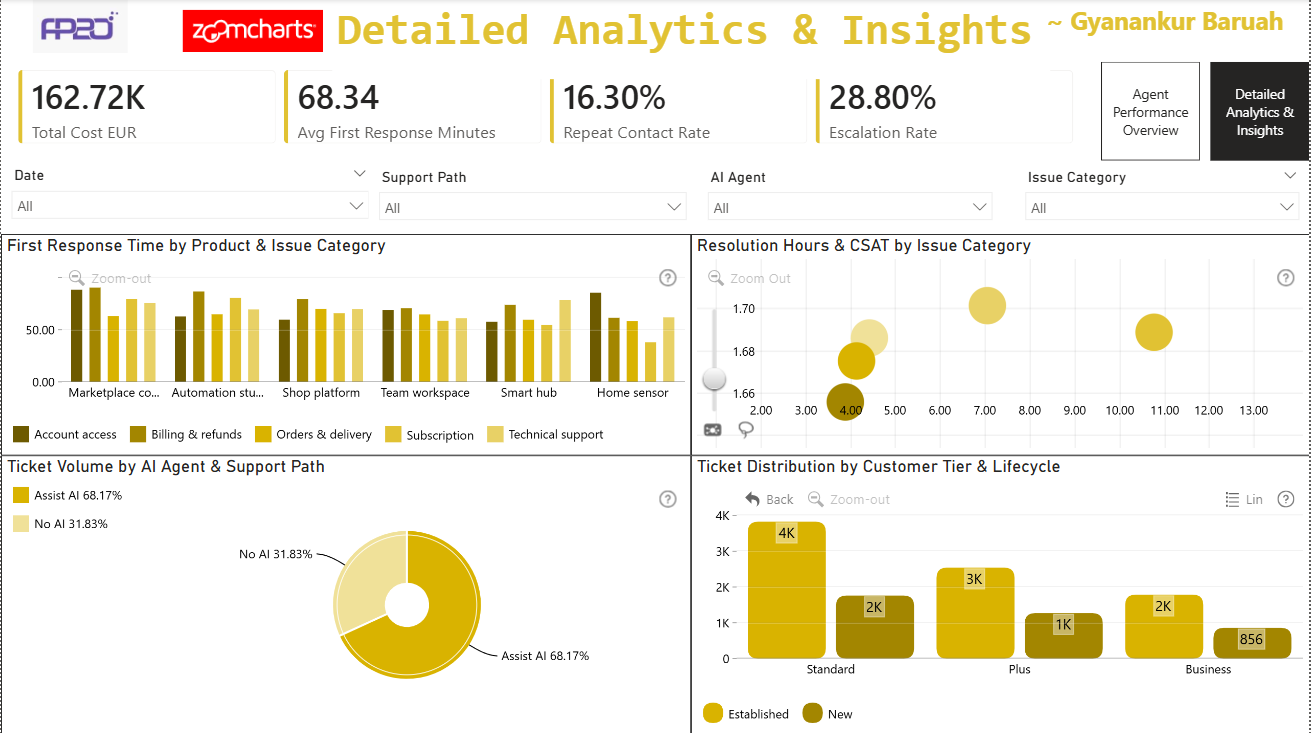

This screenshot's page, from the dashboard's own definition file:
{"tool":"powerbi","page":{"name":"Detailed Analytics & Insights","canvas":[1280,720],"ordinal":1},"visuals":[{"type":"cardVisual","fields":{"Data":["Measures (2).Total Cost EUR","Measures (2).Avg First Response Minutes","Measures (2).Repeat Contact Rate","Measures (2).Escalation Rate"]},"box":[0,52.6,1067.5,106.4],"z":0},{"type":"ZoomChartsFacetChartPaidE77E4ED357DC402ABA005987437CF500","title":"Ticket Distribution by Customer Tier & Lifecycle","fields":{"Category":["DimCustomerProfile.CustomerTier"],"Legend":["DimCustomerProfile.Lifecycle"],"Values1":["Measures (2).Total Tickets"]},"box":[675,446.3,605.3,273.9],"z":1000},{"type":"ZoomChartsPieChartFree33C9F325D337408C98D4E1D4E1EAD703","title":"Ticket Volume by AI Agent & Support Path ","fields":{"Category":["DimSupportRoute.AIAgent","DimSupportRoute.SupportPath"],"Values":["Measures (2).Total Tickets"]},"box":[0,446.3,675,273.9],"z":2000},{"type":"ZoomChartsFacetChartPaidE77E4ED357DC402ABA005987437CF500","title":"First Response Time by Product & Issue Category","fields":{"Category":["DimProduct.ProductName","FactSupportTicketsTable.ResolutionHours"],"Legend":["DimIssueTable.IssueCategory"],"Values1":["Measures (2).Avg First Response Minutes"]},"box":[0,229.9,675,216.4],"z":3000},{"type":"ZoomChartsScatterChartPaidA2C55E4B59078FDD51C4CD1C4D4E6623V9","title":"Resolution Hours & CSAT by Issue Category","fields":{"category":["DimIssueTable.IssueCategory"],"sourceNodes":["Measures (2).Avg Resolution Hours"],"targetNodes":["Measures (2).CSAT Score"]},"box":[675,229.9,605.3,216.4],"z":4000},{"type":"slicer","fields":{"Values":["DimDate.YearMonth.Variation.Date Hierarchy.Year","DimDate.YearMonth.Variation.Date Hierarchy.Quarter","DimDate.YearMonth.Variation.Date Hierarchy.Month","DimDate.YearMonth.Variation.Date Hierarchy.Day"]},"box":[0,158.6,370,55.7],"z":5000},{"type":"slicer","fields":{"Values":["DimSupportRoute.SupportPath"]},"box":[360,160,321.4,58.6],"z":6000},{"type":"slicer","fields":{"Values":["DimSupportRoute.AIAgent"]},"box":[681.4,160,298.6,60],"z":7000},{"type":"slicer","fields":{"Values":["DimIssue.IssueCategory"]},"box":[991.4,160,288.6,60],"z":8000},{"type":"pageNavigator","box":[1076.1,61.1,204.2,97.8],"z":9000},{"type":"textbox","box":[323.8,0,702.6,78.2],"z":10000},{"type":"textbox","box":[1016.8,0,263.5,61.7],"z":11000},{"type":"image","box":[0,0,155.3,52.6],"z":12000},{"type":"image","box":[168.8,0,155.3,61.1],"z":13000}]}

Visuals, with their boxes in screenshot pixels (x1, y1, x2, y2), scaled from the page's 1280x720 canvas onto the 1311x733 screenshot:
cardVisual - Measures (2).Total Cost EUR x Measures (2).Avg First Response Minutes: (0, 54, 1093, 162)
"Ticket Distribution by Customer Tier & Lifecycle" ZoomChartsFacetChartPaidE77E4ED357DC402ABA005987437CF500: (691, 454, 1310, 732)
"Ticket Volume by AI Agent & Support Path " ZoomChartsPieChartFree33C9F325D337408C98D4E1D4E1EAD703: (0, 454, 691, 732)
"First Response Time by Product & Issue Category" ZoomChartsFacetChartPaidE77E4ED357DC402ABA005987437CF500: (0, 234, 691, 454)
"Resolution Hours & CSAT by Issue Category" ZoomChartsScatterChartPaidA2C55E4B59078FDD51C4CD1C4D4E6623V9: (691, 234, 1310, 454)
slicer - DimDate.YearMonth.Variation.Date Hierarchy.Year x DimDate.YearMonth.Variation.Date Hierarchy.Quarter: (0, 161, 379, 218)
slicer - DimSupportRoute.SupportPath: (369, 163, 698, 223)
slicer - DimSupportRoute.AIAgent: (698, 163, 1004, 224)
slicer - DimIssue.IssueCategory: (1015, 163, 1310, 224)
pageNavigator: (1102, 62, 1310, 162)
textbox: (332, 0, 1051, 80)
textbox: (1041, 0, 1310, 63)
image: (0, 0, 159, 54)
image: (173, 0, 332, 62)
